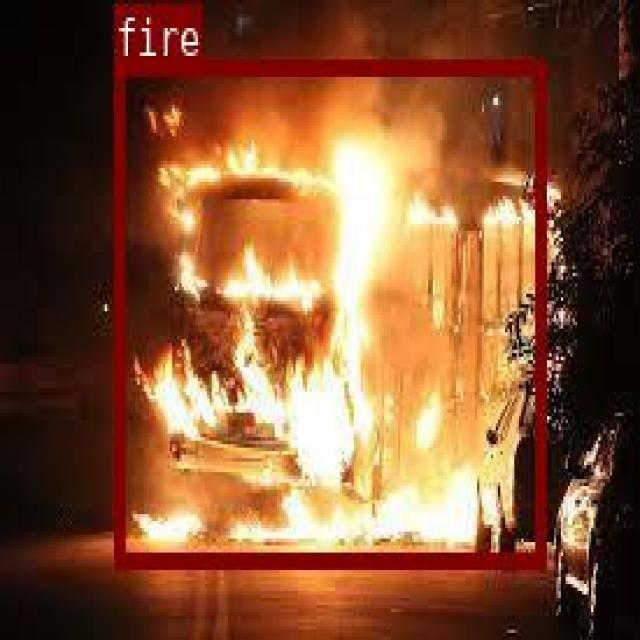fire: (112, 58, 544, 565)
